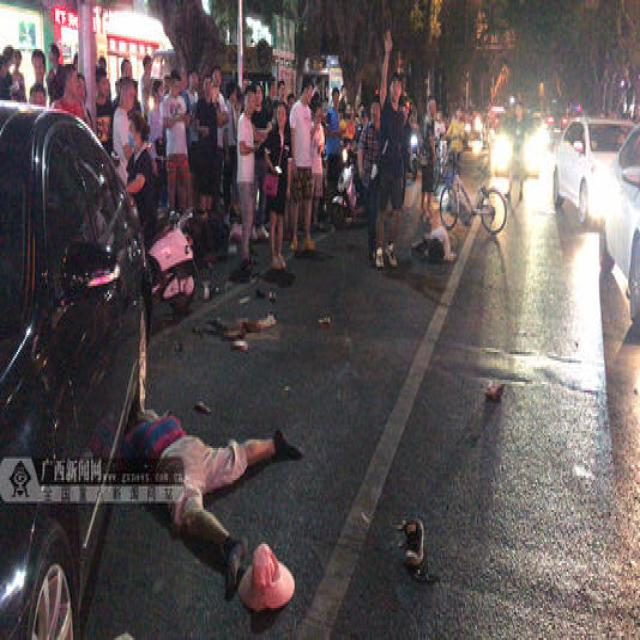10-: (0, 12, 532, 266)
down: (120, 403, 303, 591), (404, 199, 460, 290)
